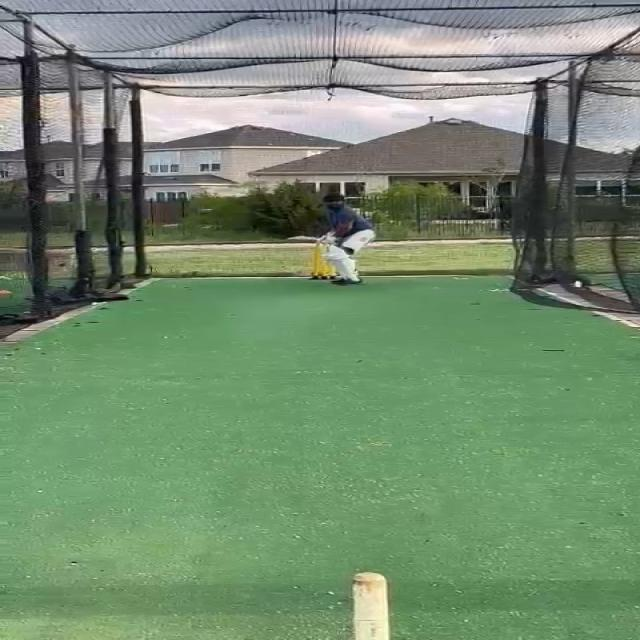batsman: (286, 192, 378, 287)
